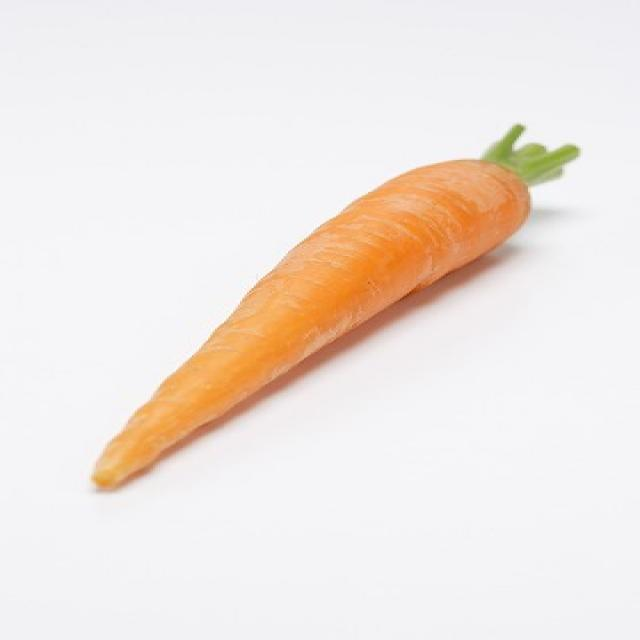Carrot: (92, 162, 547, 505)
